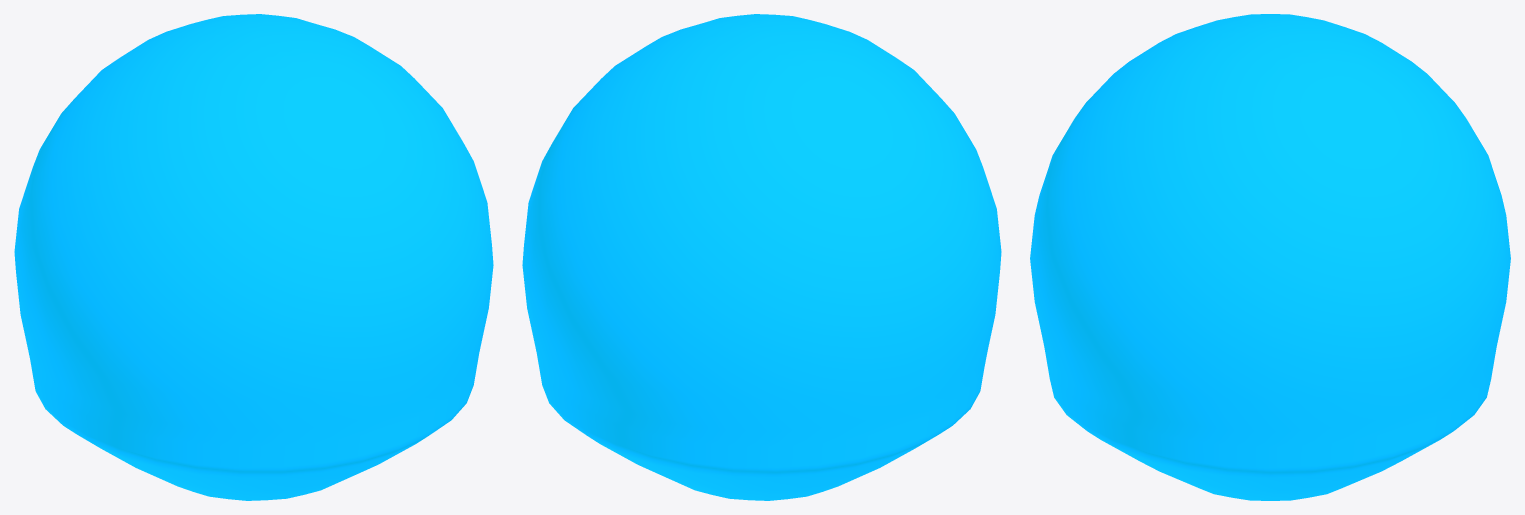
File: antenna.gltf
3 views of the same model, side by side, from view 1: azimuth 30°, elevation 25°; view 2: azimuth 150°, elevation 25°; view 3: azimuth 270°, elevation 25° (orthographic).
Parts seen in each view (by area): view 1: antenna; view 2: antenna; view 3: antenna.
Boxes of the visible parts, x1,y1,x2,y2 form: antenna: [14, 14, 493, 500]; antenna: [522, 14, 1001, 500]; antenna: [1030, 14, 1510, 500].
Size of the model in its own units: 2.06 by 2.13 by 2.06.
